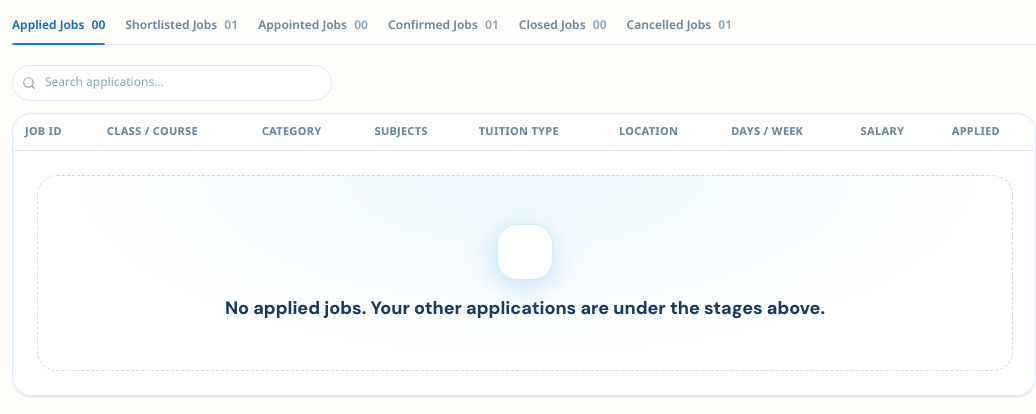
Scenario: the Tutor's Status tab › gives each stage the date it earned, and Confirmed its payment status
Click the tab "Shortlisted Jobs 01": coordinates (182, 28) [125, 12, 238, 44]
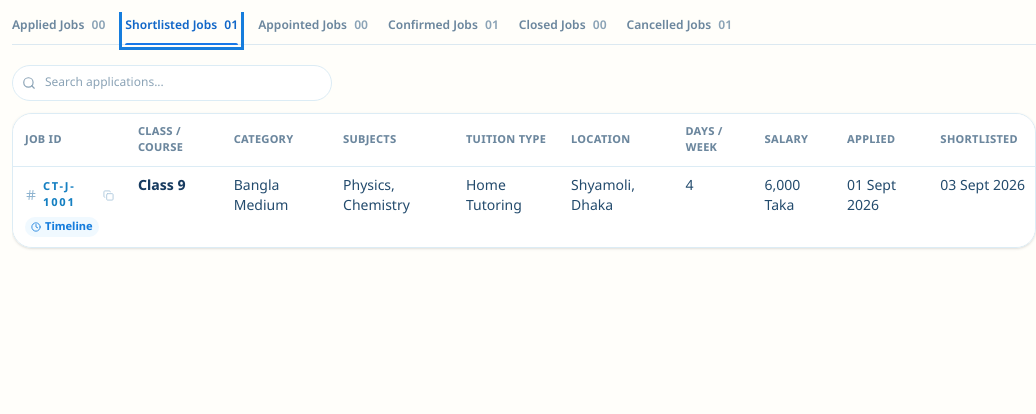
Result: the column heading "Shortlisted" is shown at [928, 114, 1035, 166]
Result: the text "03 Sept 2026" is shown at [940, 177, 1025, 196]
Click the tab "Confirmed Jobs 01": coordinates (443, 28) [388, 12, 499, 44]
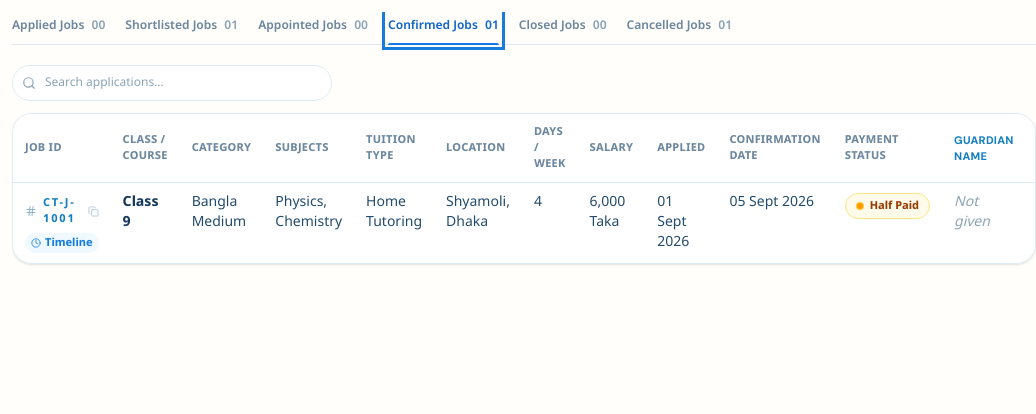
Result: the column heading "Confirmation Date" is shown at [717, 114, 833, 182]
Result: the text "05 Sept 2026" is shown at [729, 193, 814, 212]
Result: the text "Half Paid" is shown at [870, 198, 919, 214]
# The payment status belongs to Confirmed alone.
Click the tab "Cancelled Jobs 01": coordinates (679, 28) [627, 12, 732, 44]
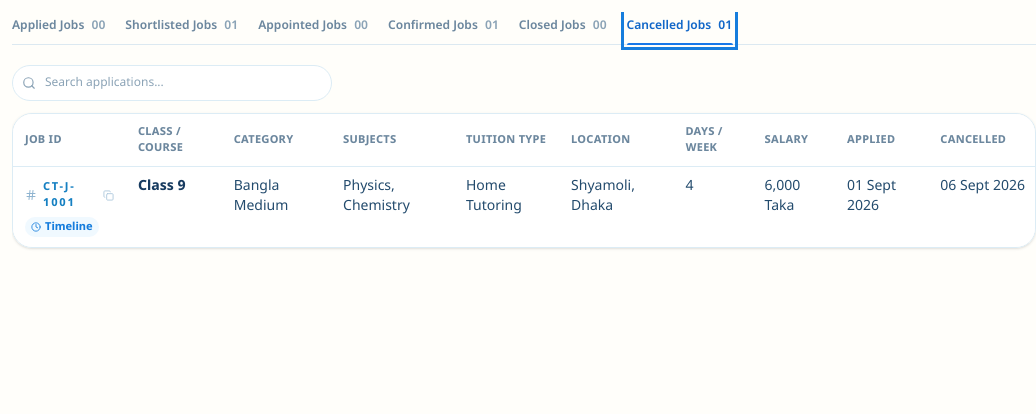
Result: the column heading "Payment Status" is gone
Result: the column heading "Cancelled" is shown at [928, 114, 1035, 166]
Result: the text "06 Sept 2026" is shown at [940, 177, 1025, 196]
